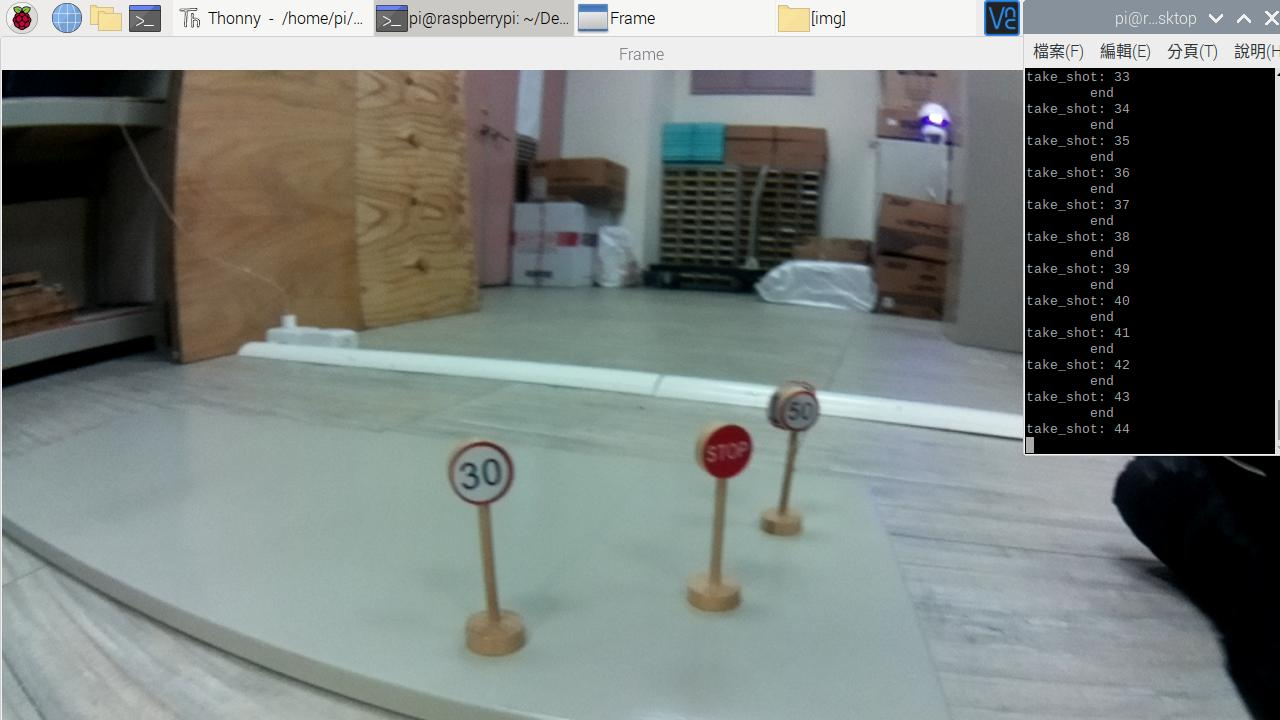Speed30: (446, 451, 518, 505)
Speed50: (779, 388, 825, 443)
Stop: (696, 421, 755, 488)
